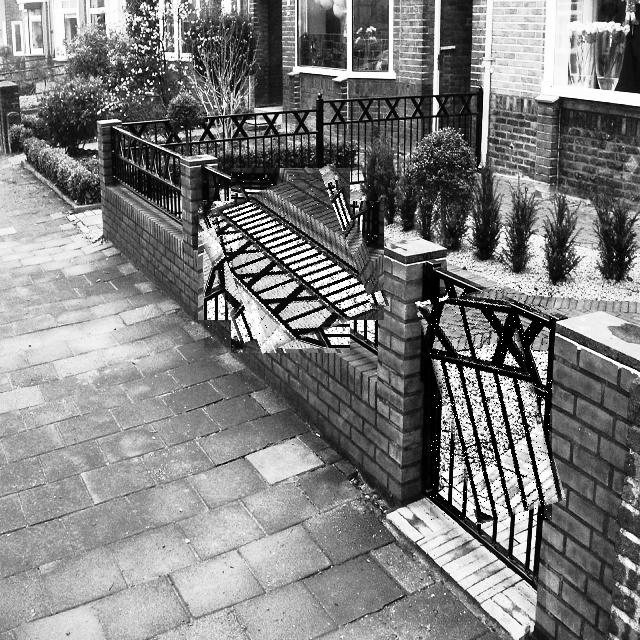fences: (204, 173, 378, 348), (430, 287, 552, 520)
